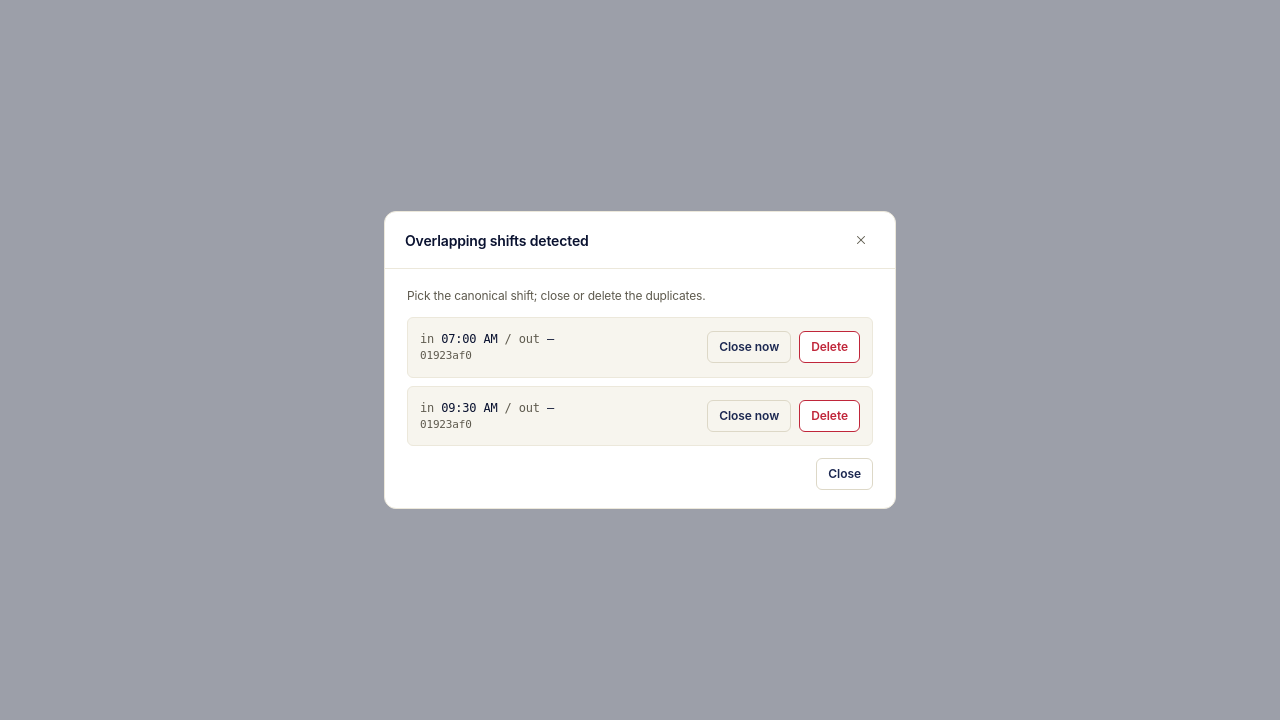
Phase-09 §8 component-render: ResolveOverlappingShifts (dir=ltr) › all Close-now buttons disable while ANY clock_out is pending
Expected: the number of list items is 2, [407,317,873,378]; [407,386,873,446]
Click the button "Close now" in the row of "07:00 AM" at [749, 347], box [707,331,791,363]
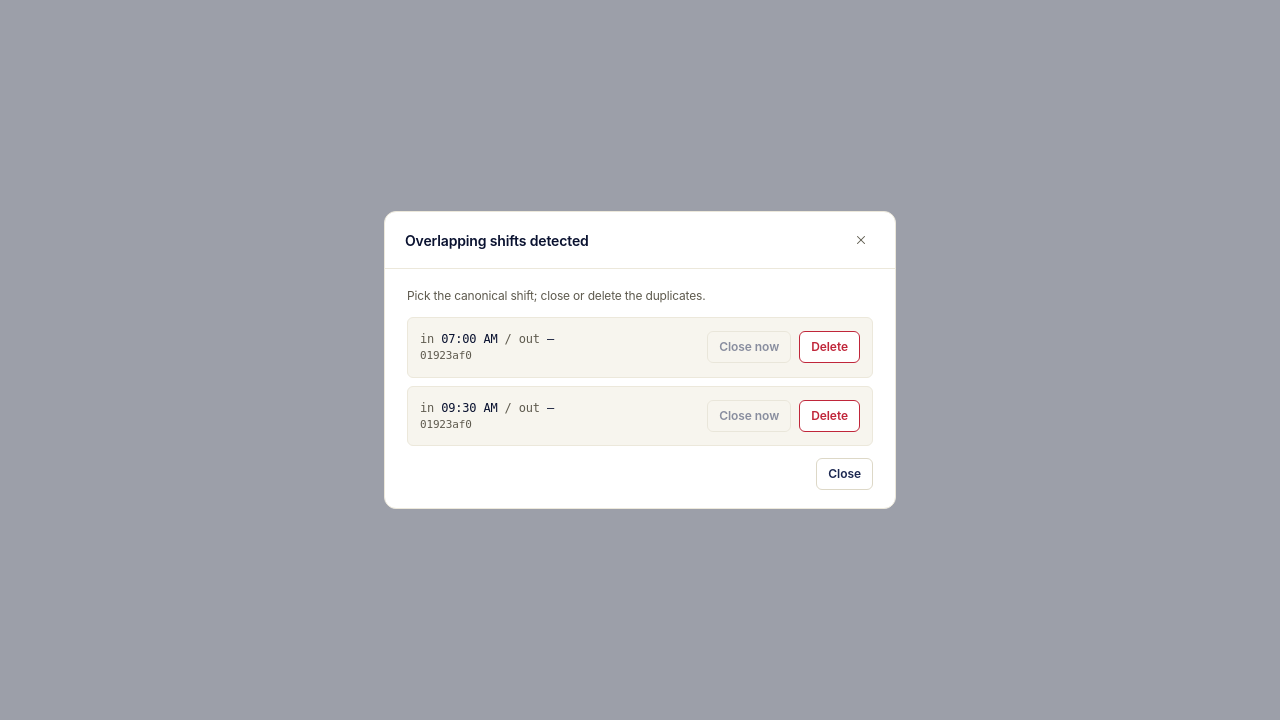
Expected: the button "Close now" in the row of "07:00 AM" is disabled, [707,331,791,363]
Expected: the button "Close now" in the row of "09:30 AM" is disabled, [707,400,791,432]
